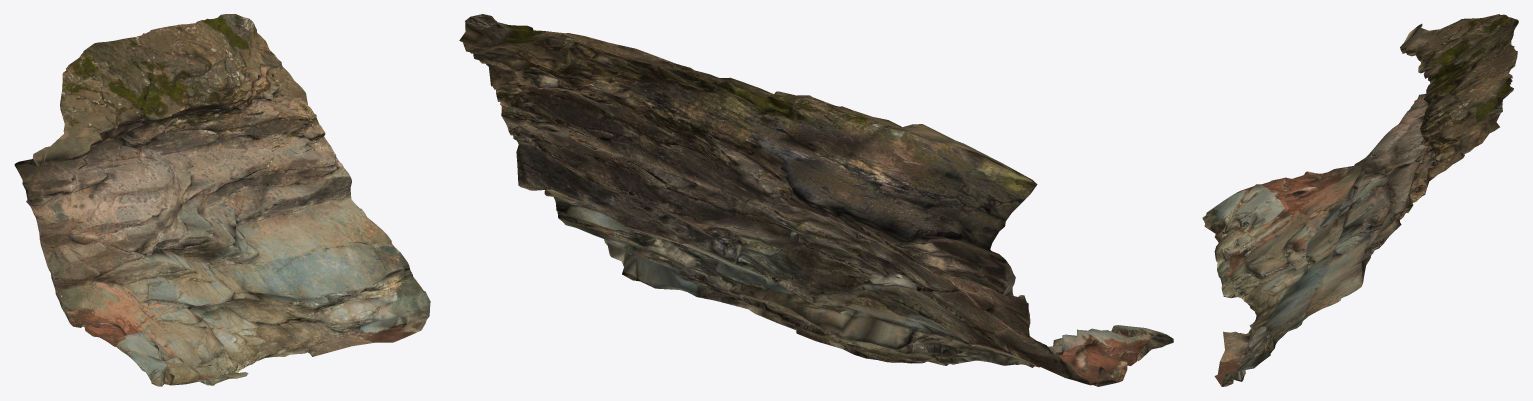
Rendered from rock_face_01.glb.
The picture shows the model from 3 angles, left to right: view 1: azimuth 30°, elevation 25°; view 2: azimuth 150°, elevation 25°; view 3: azimuth 270°, elevation 25°; orthographic projection. The views are drawn at different scales.
Visible parts, largest first — view 1: rock_face_01_lod0; view 2: rock_face_01_lod0; view 3: rock_face_01_lod0.
Boxes of the visible parts, bbox=[...] form: rock_face_01_lod0: bbox=[14, 14, 430, 386]; rock_face_01_lod0: bbox=[459, 14, 1173, 386]; rock_face_01_lod0: bbox=[1202, 14, 1518, 386].
Size of what is drawn, in the model's own units: 4.95 by 3.56 by 3.82.
Materials: 1 (1 with a texture image).
